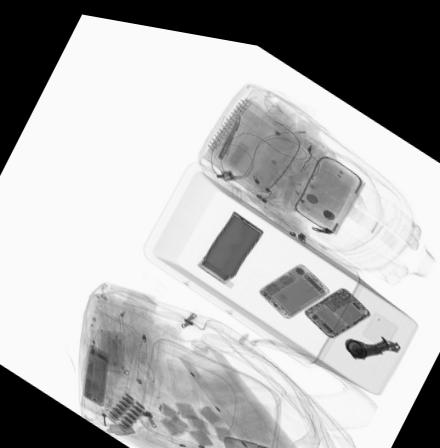Knife: (217, 109, 240, 152)
